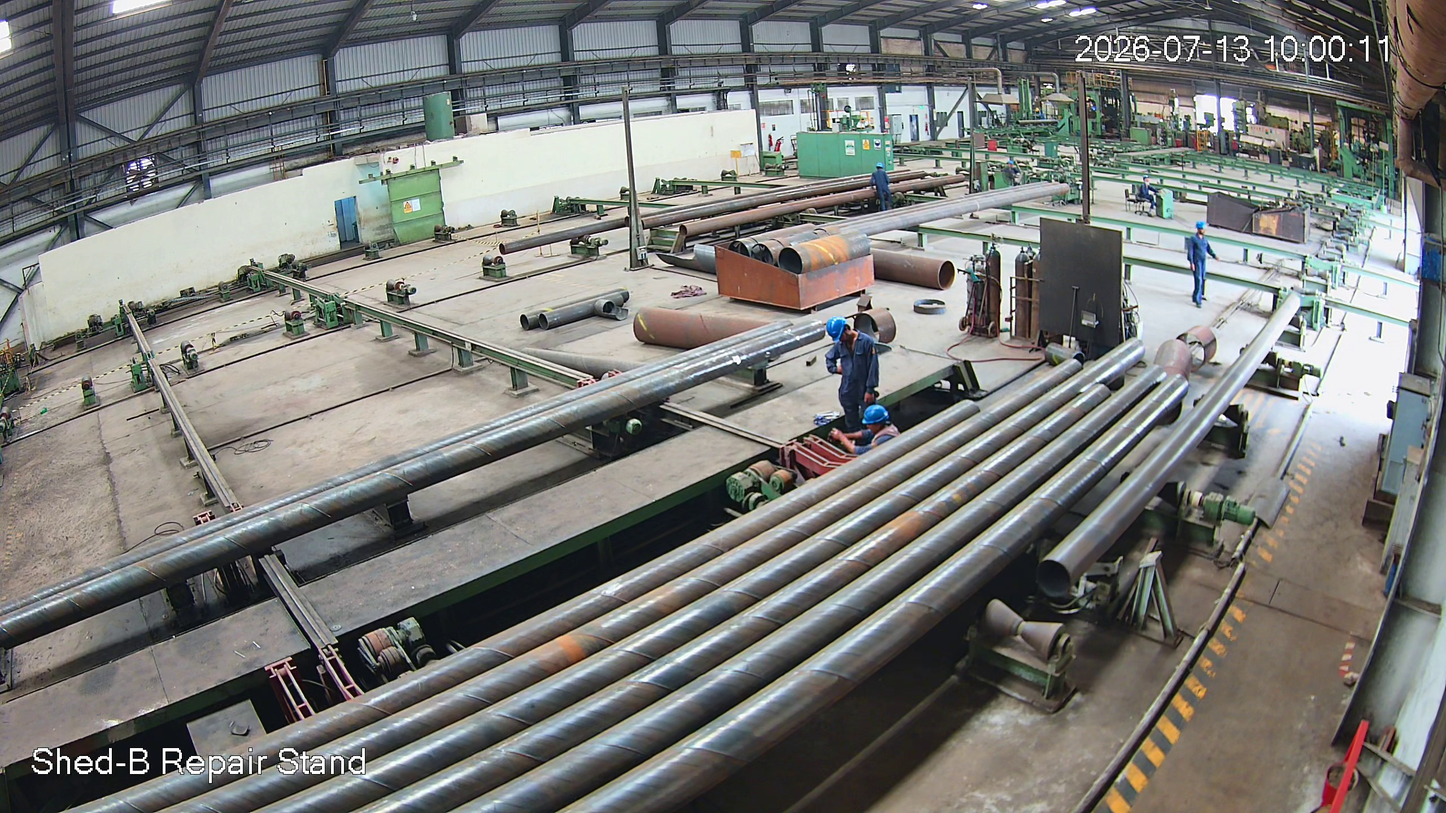Helmet: (825, 316, 858, 352), (859, 403, 894, 436), (1192, 220, 1208, 238)
Person: (820, 319, 880, 437), (831, 404, 902, 448), (1187, 222, 1214, 309)
